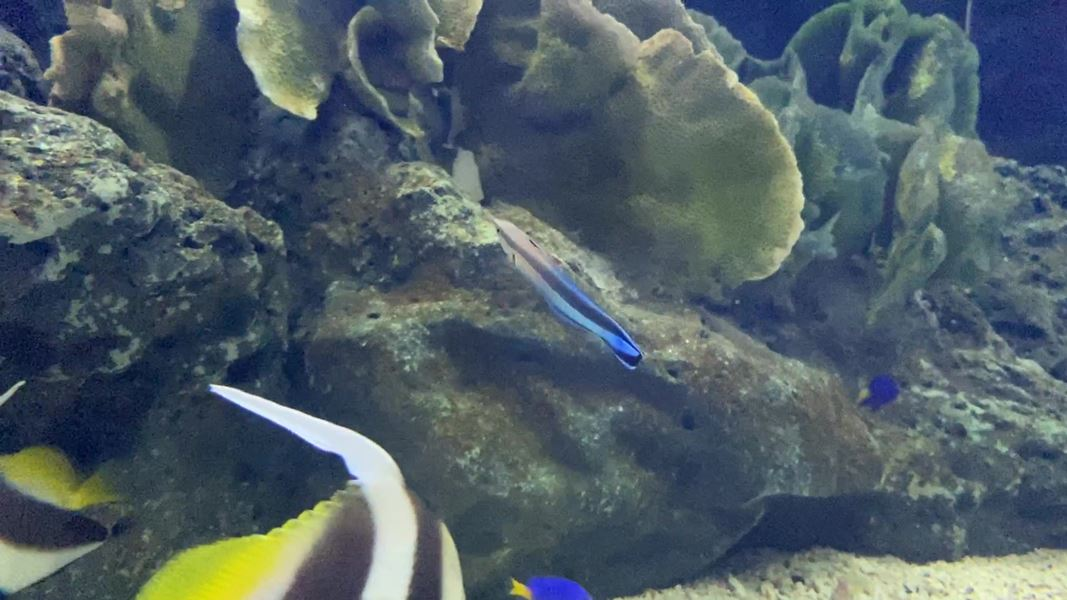Bluesteak cleaner wrasse: (479, 199, 649, 387)
